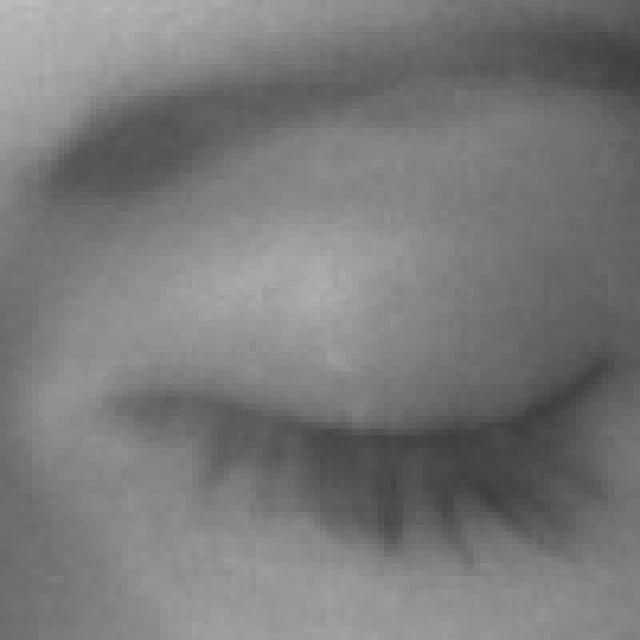Eyeclosed: (111, 212, 610, 640)
